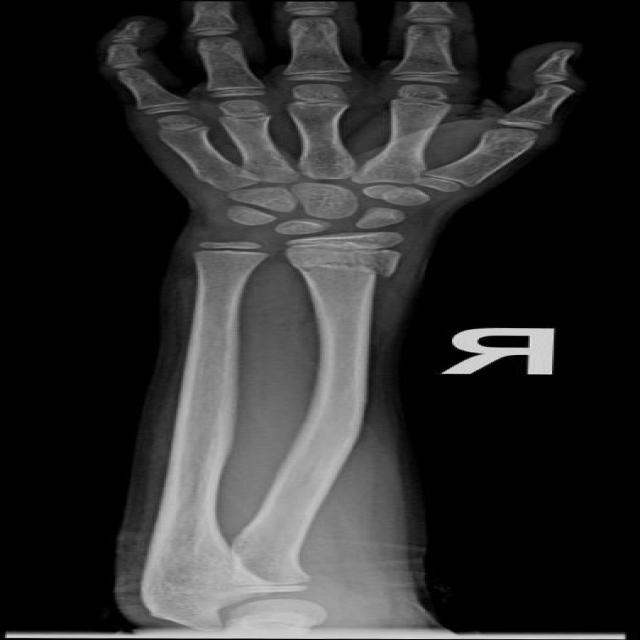Transverse Displaced: (298, 252, 422, 282)
